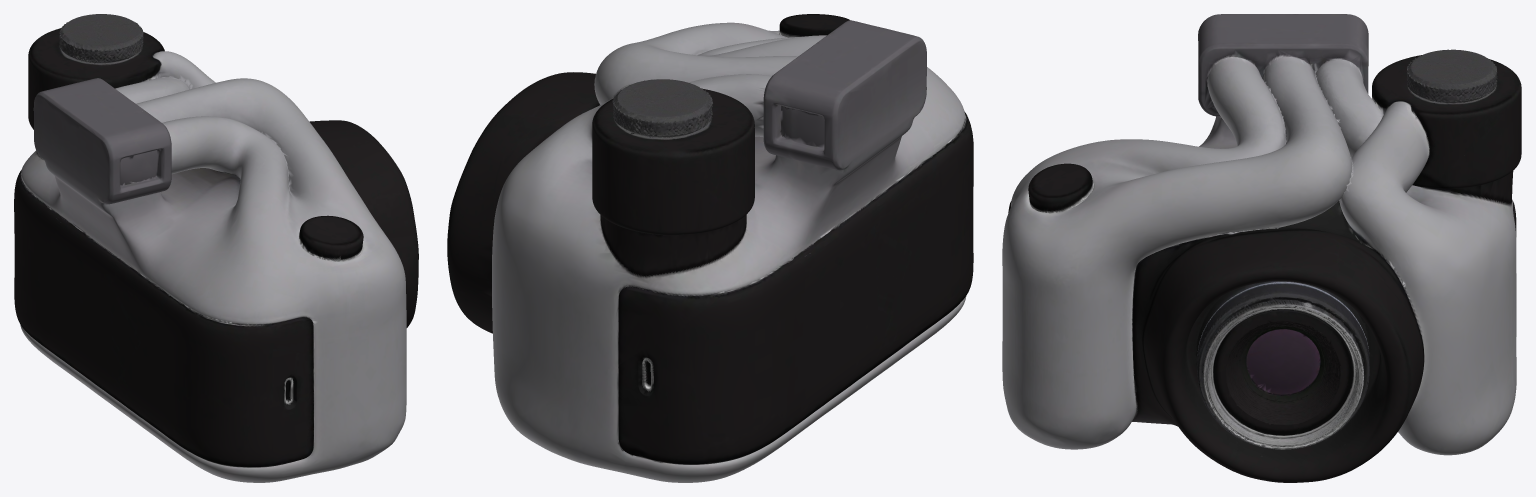
File: a3-entropi-web.glb
3 views of the same model, side by side, from view 1: azimuth 30°, elevation 25°; view 2: azimuth 150°, elevation 25°; view 3: azimuth 270°, elevation 25° (orthographic). The views are drawn at different scales.
Parts seen in each view (by area): view 1: tripo_node_67f2060a-510c-4649-a1ec-9920468a5c60; view 2: tripo_node_67f2060a-510c-4649-a1ec-9920468a5c60; view 3: tripo_node_67f2060a-510c-4649-a1ec-9920468a5c60.
Boxes of the visible parts, x1,y1,x2,y2 form: tripo_node_67f2060a-510c-4649-a1ec-9920468a5c60: (14,14,418,482); tripo_node_67f2060a-510c-4649-a1ec-9920468a5c60: (447,14,973,482); tripo_node_67f2060a-510c-4649-a1ec-9920468a5c60: (1002,14,1521,482).
Size of the model in its own units: 0.7363 by 0.6919 by 0.9799.
1 material, 1 textured.
